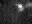person: (17, 3, 24, 10), (27, 2, 31, 6)
